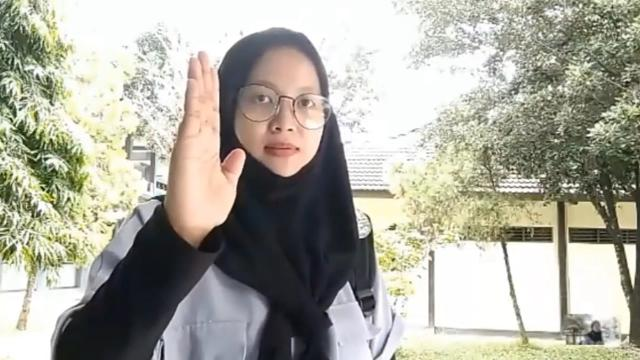B: (166, 49, 246, 231)
